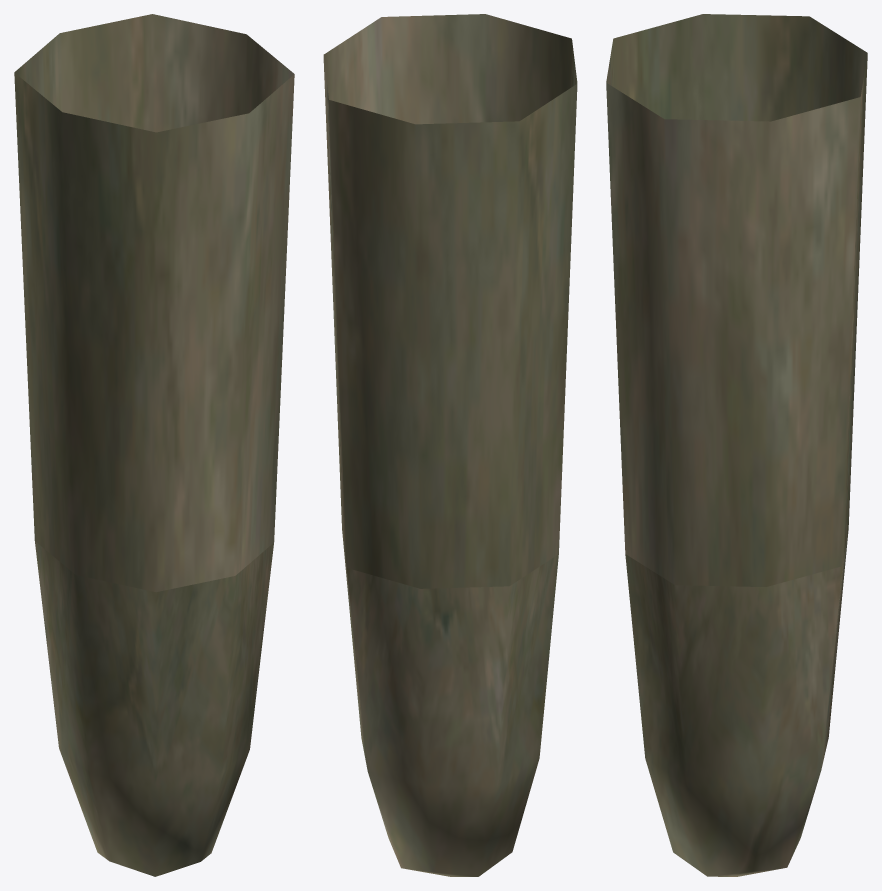
The model's file is EKH_CAVERNS_PS_CA_STLAG_425592.fbx.
The picture shows the model from 3 angles, left to right: view 1: azimuth 30°, elevation 25°; view 2: azimuth 150°, elevation 25°; view 3: azimuth 270°, elevation 25°; orthographic projection.
Parts seen in each view (by area): view 1: EKH_CAVERNS_PS_CA_STLAG_425592; view 2: EKH_CAVERNS_PS_CA_STLAG_425592; view 3: EKH_CAVERNS_PS_CA_STLAG_425592.
Boxes of the visible parts, x1,y1,x2,y2 form: EKH_CAVERNS_PS_CA_STLAG_425592: (14, 14, 294, 876); EKH_CAVERNS_PS_CA_STLAG_425592: (323, 14, 577, 876); EKH_CAVERNS_PS_CA_STLAG_425592: (606, 14, 867, 876).
Bounding box in the file's own units: 19132 × 67129 × 19671.
Materials: 1 (1 with a texture image).
